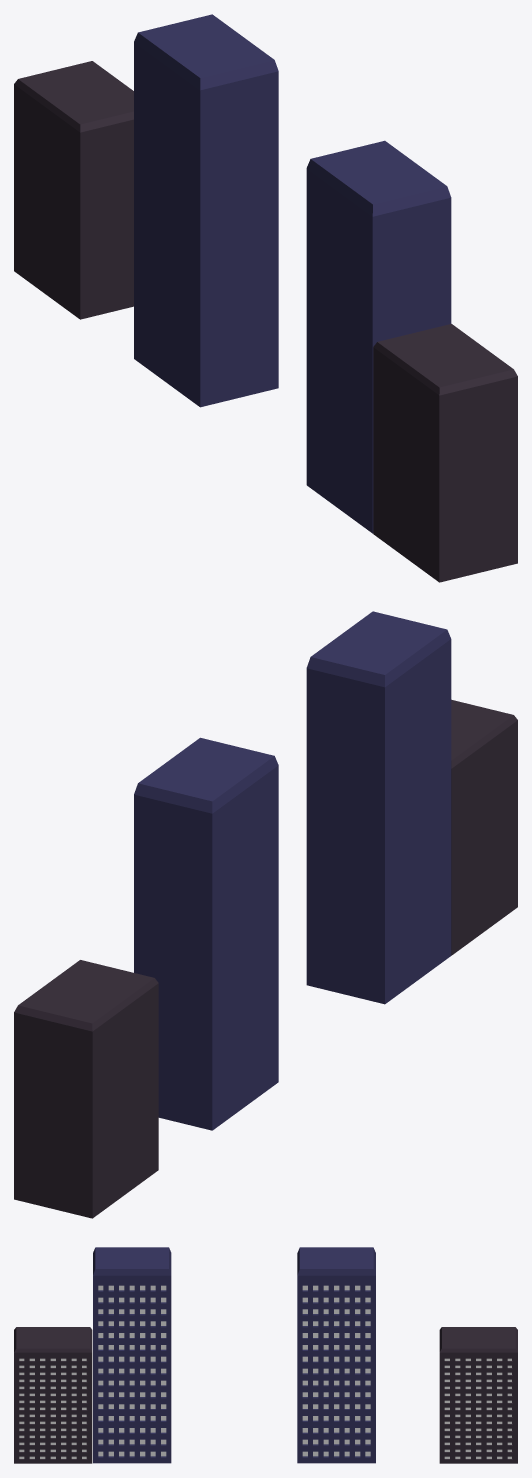
File: buildings wow.fbx
The picture shows the model from 3 angles, top to bottom: view 1: azimuth 30°, elevation 25°; view 2: azimuth 150°, elevation 25°; view 3: azimuth 270°, elevation 25°; orthographic projection. The views are drawn at different scales.
Parts seen in each view (by area): view 1: Cube.002, Cube.004, Cube.005; view 2: Cube.002, Cube.004, Cube.005; view 3: Cube.002, Cube.004, Cube.005, Plane.004, Plane.002, Plane.003, Plane.005.
Boxes of the visible parts, bbox=[...] form: Cube.002: bbox=[306, 140, 517, 582]; Cube.004: bbox=[134, 14, 278, 407]; Cube.005: bbox=[14, 61, 133, 319]; Cube.002: bbox=[306, 611, 517, 1004]; Cube.004: bbox=[134, 737, 278, 1130]; Cube.005: bbox=[14, 960, 158, 1218]; Cube.002: bbox=[14, 1247, 171, 1463]; Cube.004: bbox=[297, 1247, 375, 1463]; Cube.005: bbox=[439, 1327, 517, 1463]; Plane.004: bbox=[302, 1285, 370, 1456]; Plane.002: bbox=[98, 1285, 166, 1456]; Plane.003: bbox=[19, 1358, 86, 1458]; Plane.005: bbox=[444, 1358, 511, 1458].
Bounding box in the file's own units: 200 × 797 × 1877.
